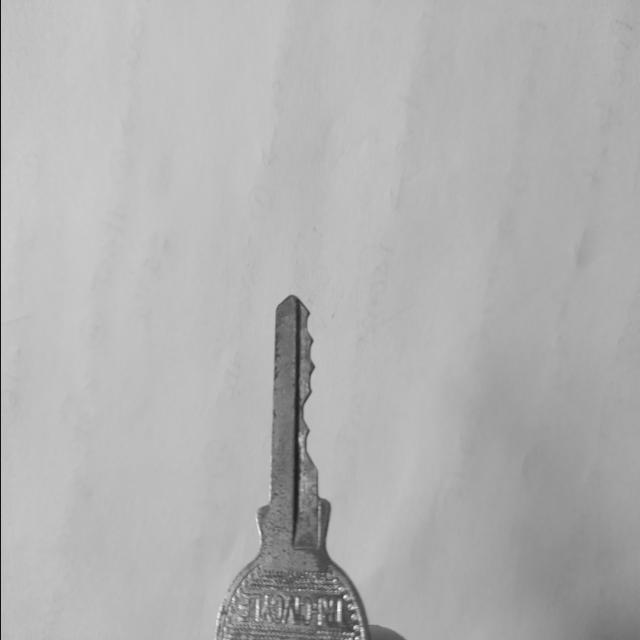key: (214, 296, 369, 640)
